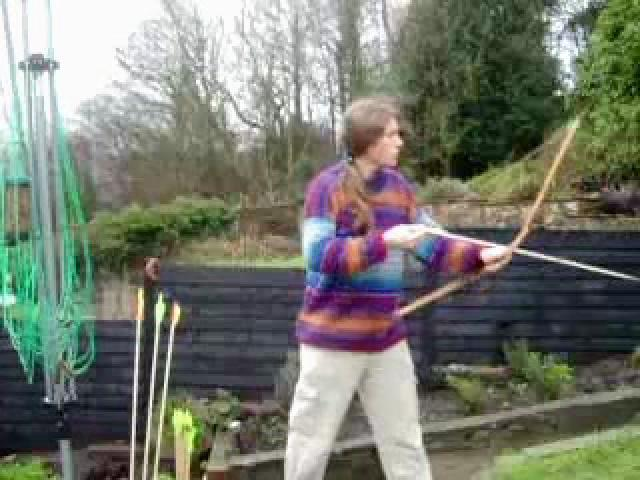I: (260, 67, 528, 480)
